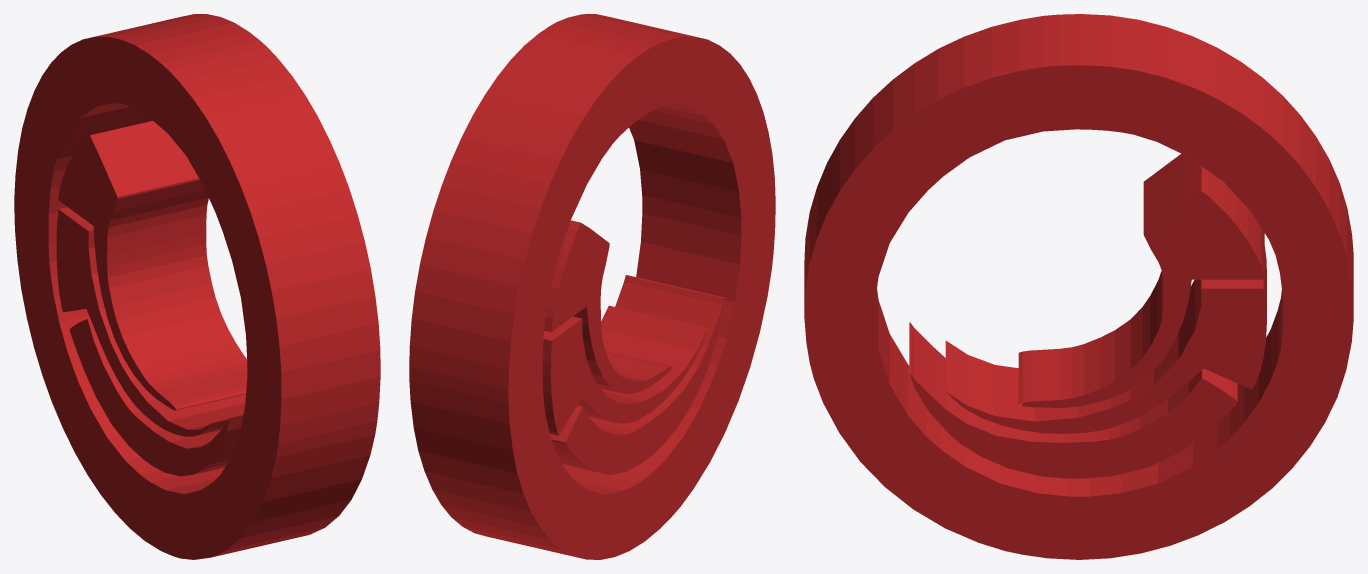
The model's file is sitecore.obj.
3 renders of one model, left to right at view 1: azimuth 30°, elevation 25°; view 2: azimuth 150°, elevation 25°; view 3: azimuth 270°, elevation 25°, orthographic. The views are drawn at different scales.
Parts seen in each view (by area): view 1: Mesh1 kisspngcomputericonssitecorelogoclipartsapicon5b558822d2e6, Mesh2 kisspngcomputericonssitecorelogoclipartsapicon5b558822d2e6, Mesh3 kisspngcomputericonssitecorelogoclipartsapicon5b558822d2e6, Mesh4 kisspngcomputericonssitecorelogoclipartsapicon5b558822d2e6; view 2: Mesh1 kisspngcomputericonssitecorelogoclipartsapicon5b558822d2e6, Mesh3 kisspngcomputericonssitecorelogoclipartsapicon5b558822d2e6, Mesh4 kisspngcomputericonssitecorelogoclipartsapicon5b558822d2e6, Mesh2 kisspngcomputericonssitecorelogoclipartsapicon5b558822d2e6; view 3: Mesh1 kisspngcomputericonssitecorelogoclipartsapicon5b558822d2e6, Mesh2 kisspngcomputericonssitecorelogoclipartsapicon5b558822d2e6, Mesh3 kisspngcomputericonssitecorelogoclipartsapicon5b558822d2e6, Mesh4 kisspngcomputericonssitecorelogoclipartsapicon5b558822d2e6.
Boxes of the visible parts, box(x1,y1,x2,y2) form: Mesh1 kisspngcomputericonssitecorelogoclipartsapicon5b558822d2e6: box(14, 14, 380, 559); Mesh2 kisspngcomputericonssitecorelogoclipartsapicon5b558822d2e6: box(58, 121, 247, 410); Mesh3 kisspngcomputericonssitecorelogoclipartsapicon5b558822d2e6: box(56, 207, 245, 436); Mesh4 kisspngcomputericonssitecorelogoclipartsapicon5b558822d2e6: box(69, 318, 243, 476); Mesh1 kisspngcomputericonssitecorelogoclipartsapicon5b558822d2e6: box(409, 14, 775, 559); Mesh3 kisspngcomputericonssitecorelogoclipartsapicon5b558822d2e6: box(542, 305, 707, 435); Mesh4 kisspngcomputericonssitecorelogoclipartsapicon5b558822d2e6: box(550, 275, 725, 475); Mesh2 kisspngcomputericonssitecorelogoclipartsapicon5b558822d2e6: box(544, 220, 672, 393); Mesh1 kisspngcomputericonssitecorelogoclipartsapicon5b558822d2e6: box(804, 14, 1353, 559); Mesh2 kisspngcomputericonssitecorelogoclipartsapicon5b558822d2e6: box(1018, 153, 1264, 407); Mesh3 kisspngcomputericonssitecorelogoclipartsapicon5b558822d2e6: box(945, 246, 1266, 433); Mesh4 kisspngcomputericonssitecorelogoclipartsapicon5b558822d2e6: box(909, 322, 1237, 478).
Size of the model in its own units: 3.18 by 14.04 by 14.
